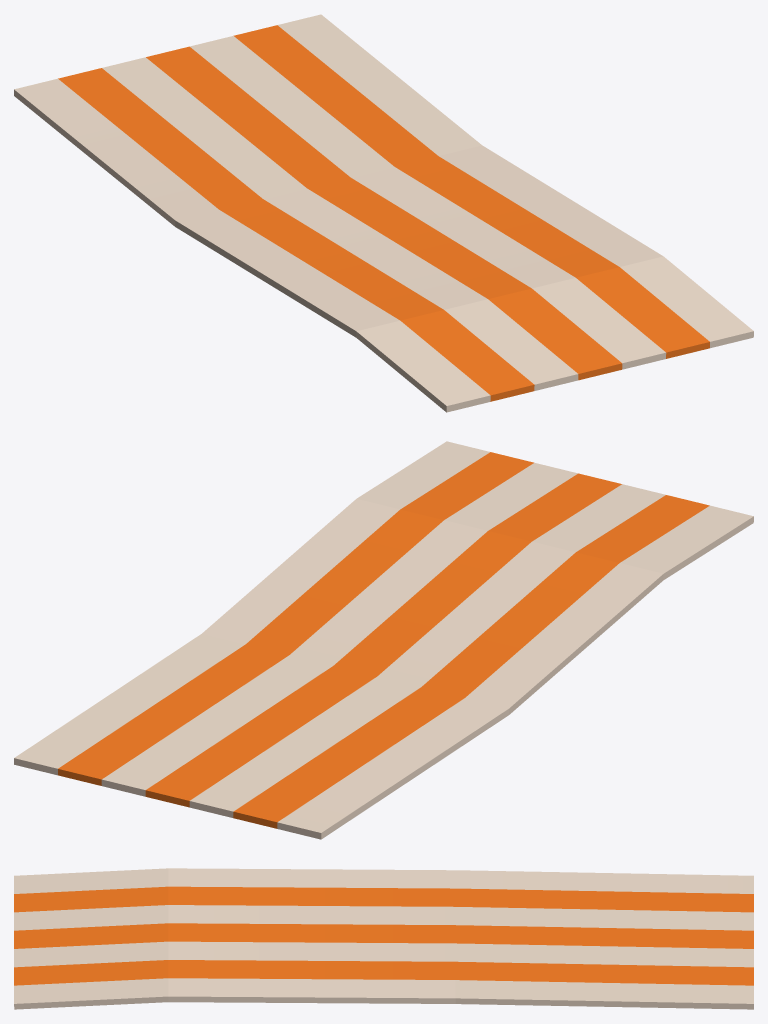
File: beach_towel-beach.fbx
The picture shows the model from 3 angles, top to bottom: view 1: azimuth 30°, elevation 25°; view 2: azimuth 150°, elevation 25°; view 3: azimuth 270°, elevation 25°; orthographic projection. The views are drawn at different scales.
Visible parts, largest first — view 1: beach_towel_beach; view 2: beach_towel_beach; view 3: beach_towel_beach.
Boxes of the visible parts, x1,y1,x2,y2 form: beach_towel_beach: (14,14,753,412); beach_towel_beach: (14,441,753,839); beach_towel_beach: (14,868,753,1009).
Bounding box in the file's own units: 85.53 × 3.9 × 200.
